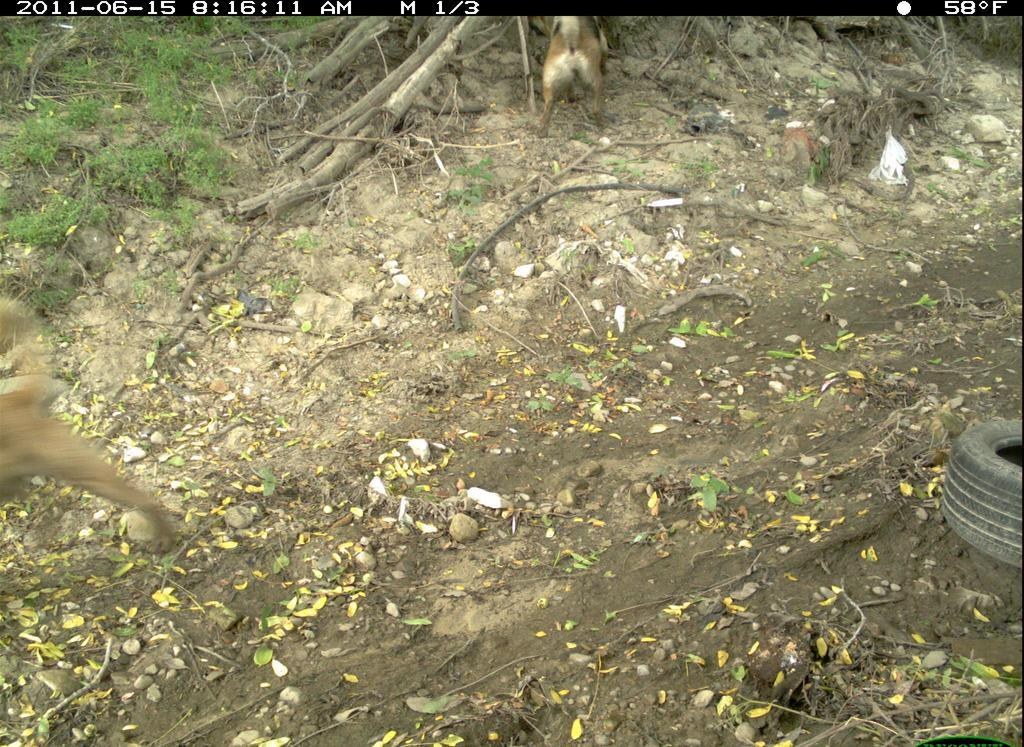dog: (1, 299, 185, 560), (539, 16, 614, 145)
